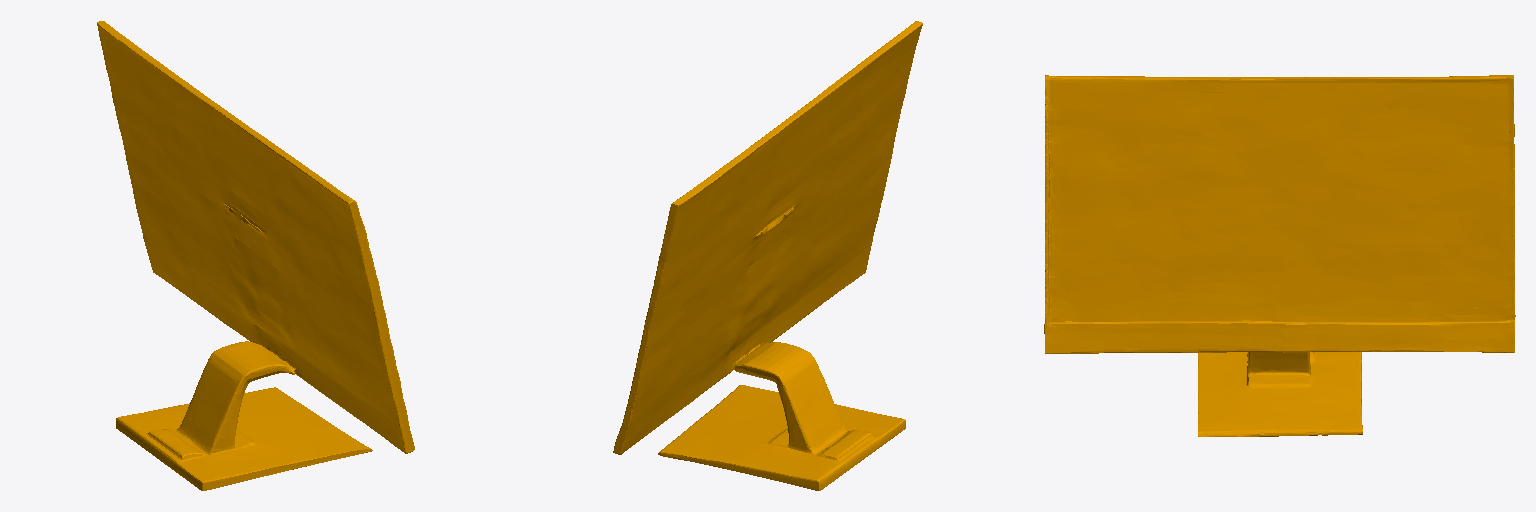
robot.urdf — sample:
<?xml version="1.0" ?>
<robot name="sample">
   <link name="sample">
      <visual>
         <origin xyz="0 0 0" rpy="1.5708 0.0 0.0"/>
         <geometry>
            <mesh filename="mesh/sample.obj" scale="1.0 1.0 1.0"/>
         </geometry>
      </visual>
      <collision>
         <origin xyz="0 0 0" rpy="1.5708 0.0 0.0"/>
         <geometry>
            <mesh filename="mesh/sample_collision.obj" scale="1.0 1.0 1.0"/>
         </geometry>
         <gazebo>
            <mu1>0.70</mu1>
            <mu2>0.55</mu2>
         </gazebo>
      </collision>
      <inertial>
         <mass value="4.0000"/>
         <origin xyz="0 0 0"/>
         <inertia ixx="1.0" ixy="0.0" ixz="0.0" iyy="1.0" iyz="0.0" izz="1.0"/>
      </inertial>
      <extra_info>
         <scale>0.741883</scale>
         <version>v0.1.7</version>
         <category>computer monitor</category>
         <description>flat-screen display with stand and thin bezel</description>
         <min_height>0.5</min_height>
         <max_height>0.6</max_height>
         <real_height>0.55</real_height>
         <min_mass>3.0</min_mass>
         <max_mass>5.0</max_mass>
         <generate_time>20260401111858</generate_time>
         <gs_model>mesh/sample_gs.ply</gs_model>
      </extra_info>
   </link>
   <custom_data>
      <quality>
         <MeshGeoChecker>YES</MeshGeoChecker>
         <ImageSegChecker>YES</ImageSegChecker>
         <ImageAestheticChecker>4.808863520622253</ImageAestheticChecker>
         <overall>YES</overall>
      </quality>
   </custom_data>
</robot>

--- Render facts (derived) ---
Views: 3 orthographic renders of the robot side by side, from view 1: azimuth 30°, elevation 25°; view 2: azimuth 150°, elevation 25°; view 3: azimuth 270°, elevation 25°.
Robot: sample — 1 links, 0 joints (none); root link sample; default pose: every joint at zero.
Links seen in each view (by area): view 1: sample; view 2: sample; view 3: sample.
Link boxes in pixels (left/top/right/bottom): sample: left=97, top=21, right=414, bottom=490; sample: left=613, top=21, right=922, bottom=490; sample: left=1044, top=75, right=1515, bottom=436.
Bounding box of the posed robot: 0.2917 × 0.7419 × 0.55 m (x, y, z).
Meshes: 1 distinct files referenced, 1 mesh visuals loaded (1 OBJ).
